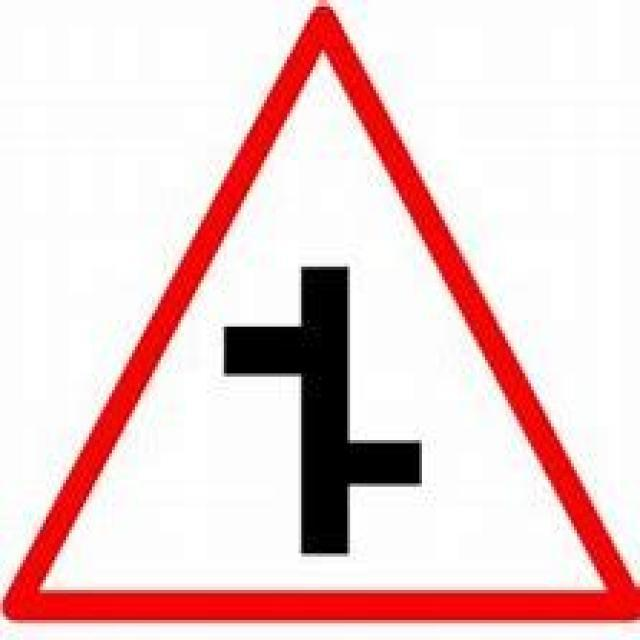staggered intersection: (18, 16, 617, 627)
